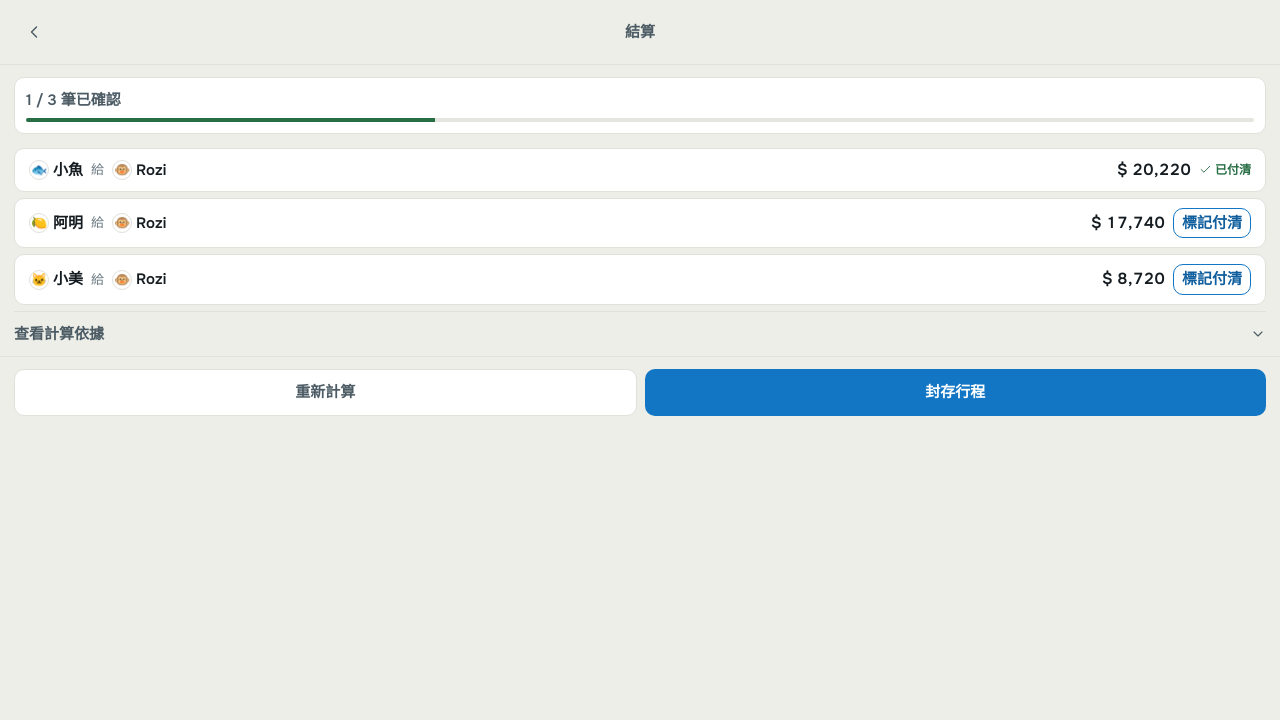
Test: B-5　S-05 已結算：逐筆標記付清 › S-05-12　Excel 正負號提醒已移除
expect the text "結算" is shown: met, box [625,21,655,43]
Click the button "查看計算依據" at (59, 334), box [14,310,1266,356]
(page scrolled)
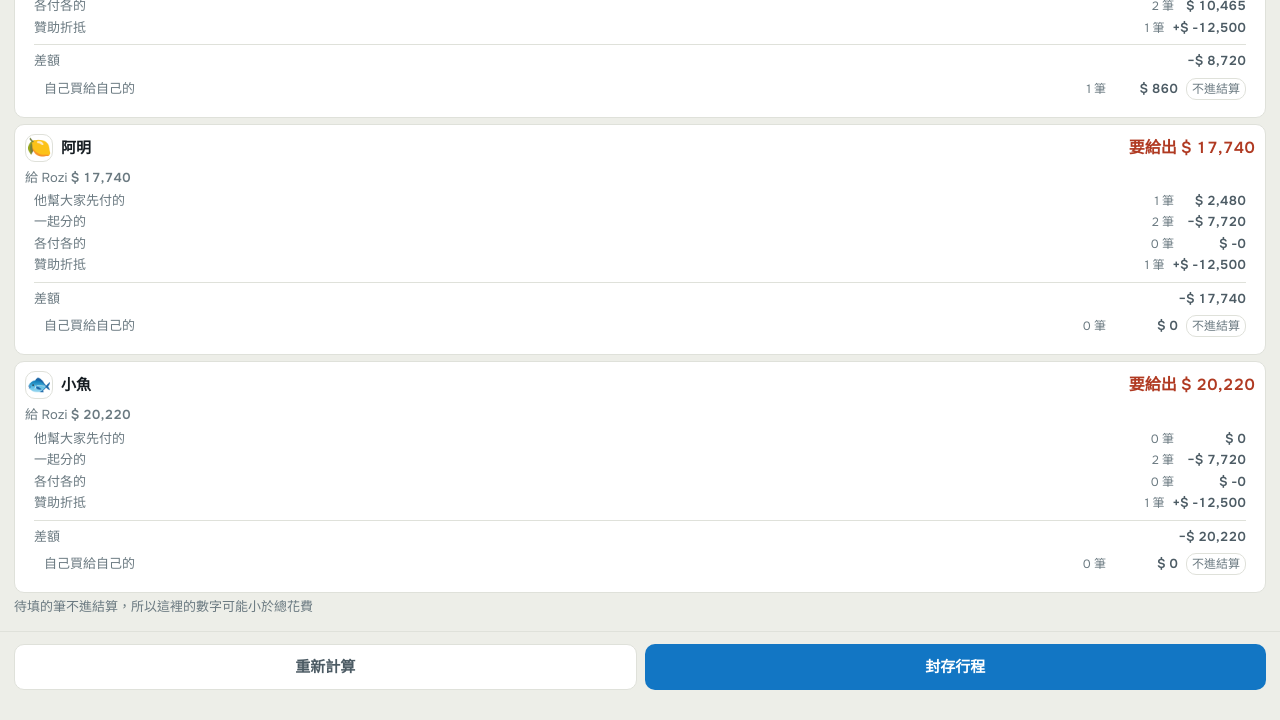
expect the text "待填的筆不進結算，所以這裡的數字可能小於總花費" is shown: met, box [14,598,313,615]
